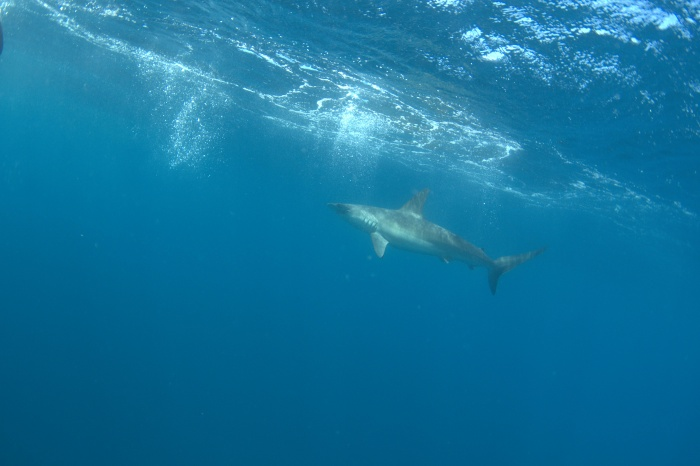Hammer: (311, 180, 554, 319)
